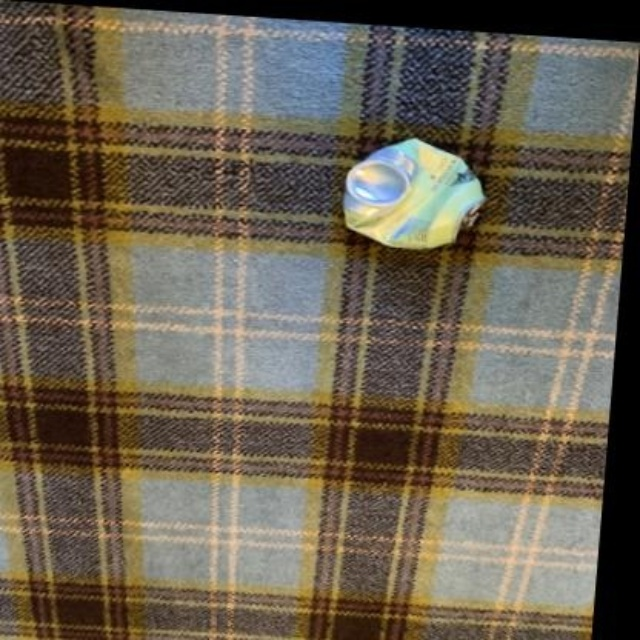trash: (343, 138, 485, 248)
